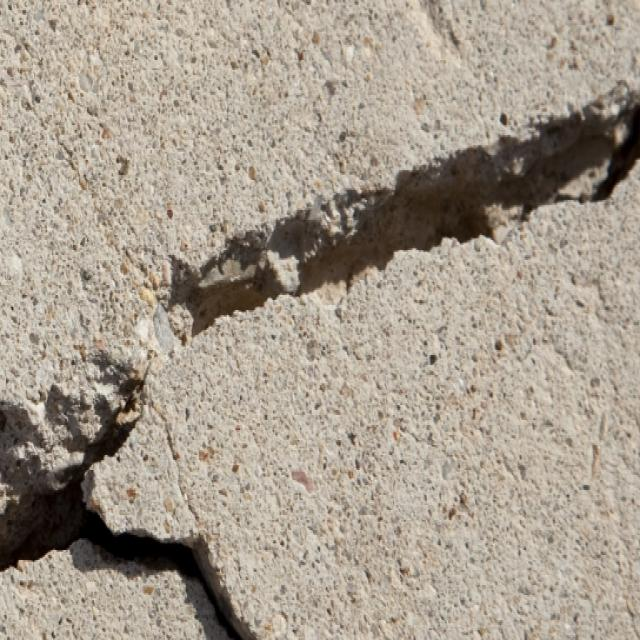crack: (86, 504, 252, 638)
spall: (149, 80, 639, 390), (0, 310, 148, 588)
